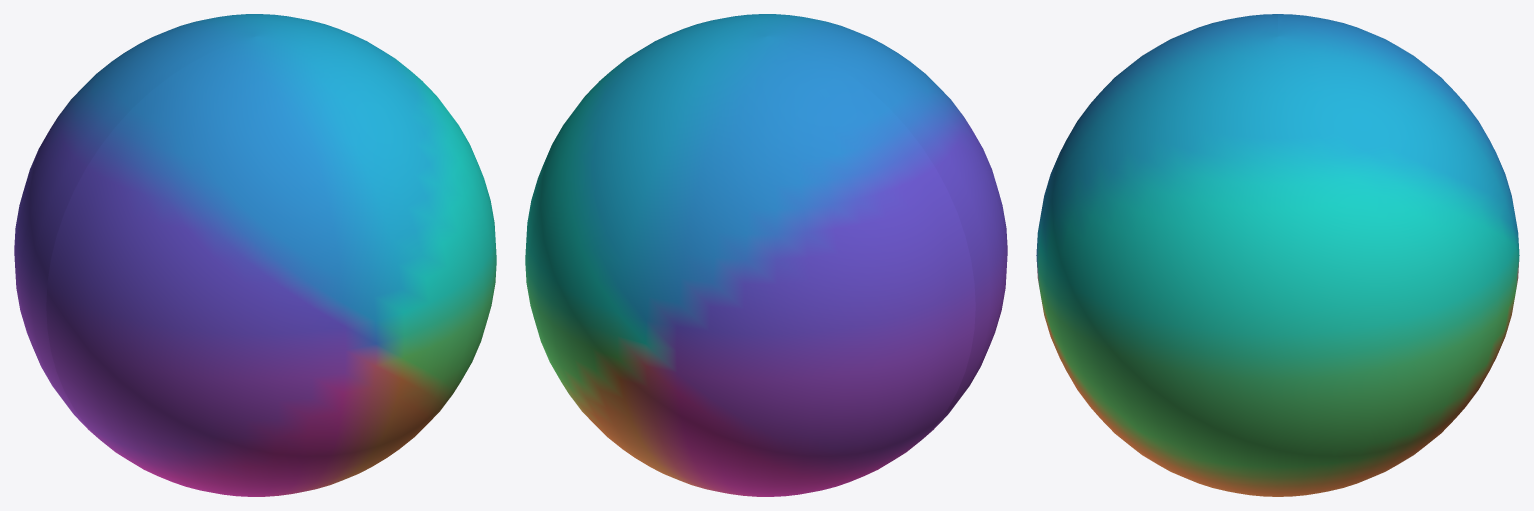
File: orb-01-gradient-orb.glb
The picture shows the model from 3 angles, left to right: view 1: azimuth 30°, elevation 25°; view 2: azimuth 150°, elevation 25°; view 3: azimuth 270°, elevation 25°; orthographic projection.
Visible parts, largest first — view 1: gradient-orb; view 2: gradient-orb; view 3: gradient-orb.
Part boxes in pixels (bbox=[...]): gradient-orb: bbox=[14, 14, 496, 496]; gradient-orb: bbox=[525, 14, 1007, 496]; gradient-orb: bbox=[1036, 14, 1519, 496].
Size of the model in its own units: 2 by 2 by 2.
